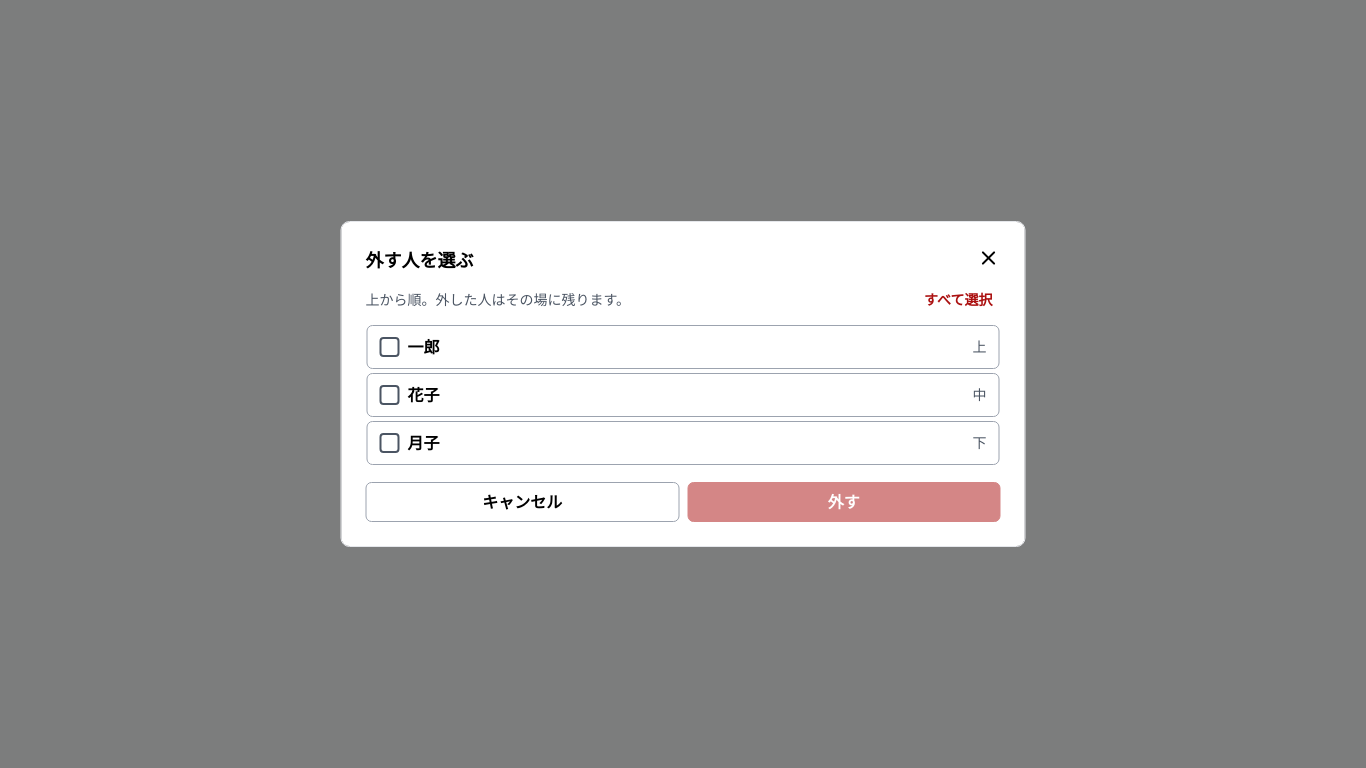
UnstackDialog › すべて選択 picks everyone and ends the stack; すべて解除 clears
The width and height of the screenshot is (1366, 768).
Later steps or results of the test are not shown.
Click the button "すべて選択" at (958, 300), box [916,284,1000,316]
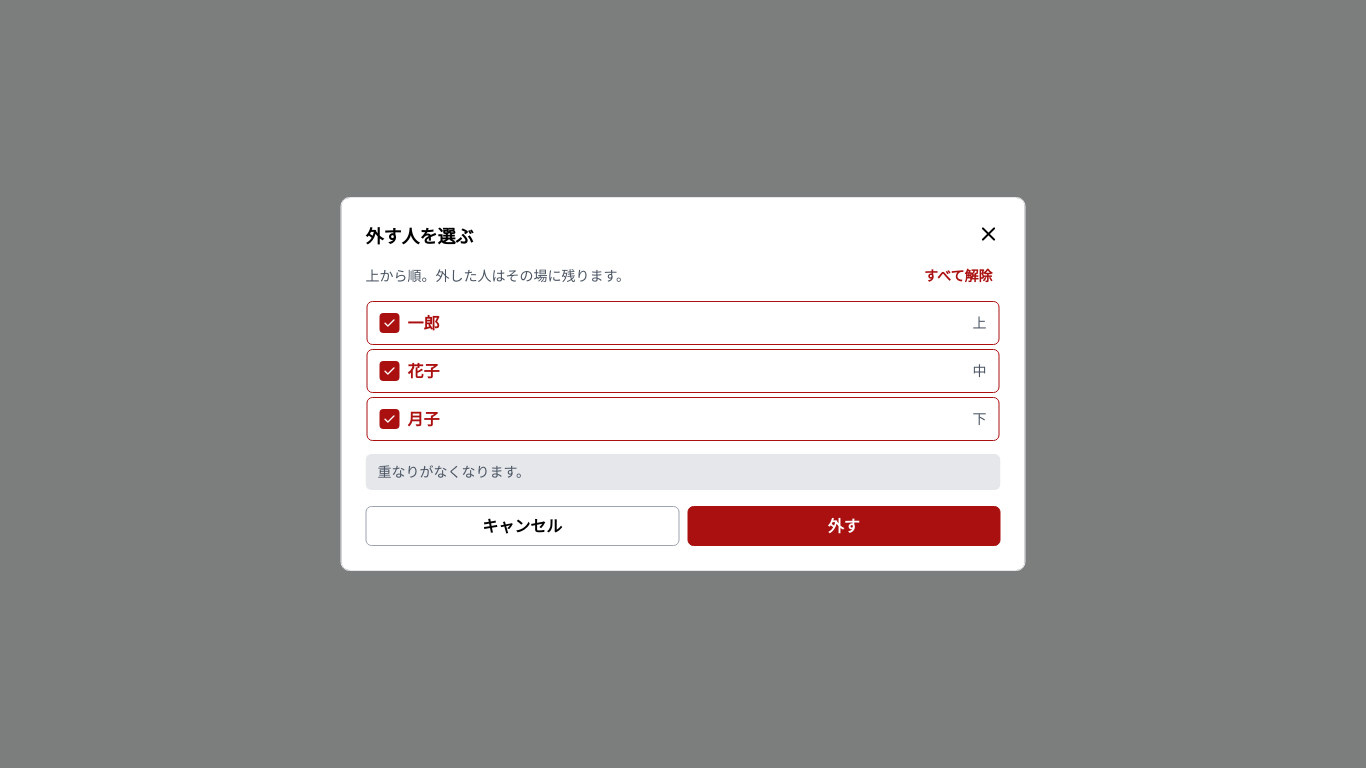
Now the text "重なりがなくなります。" is shown, box [366,454,1000,490]
